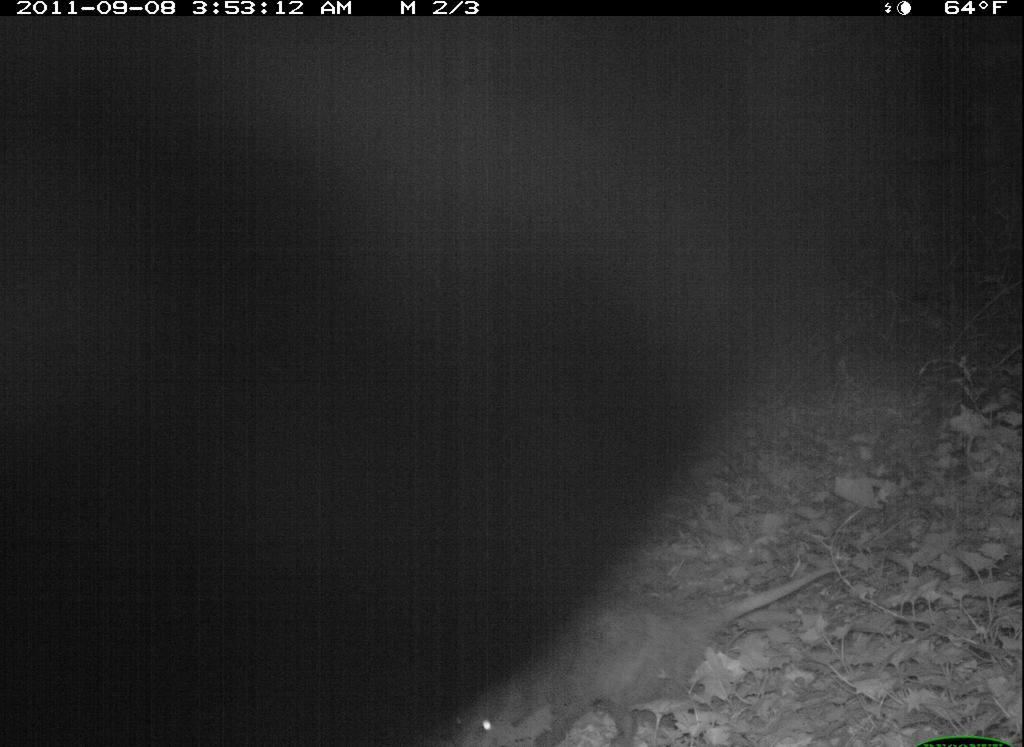opossum: (445, 557, 863, 747)
